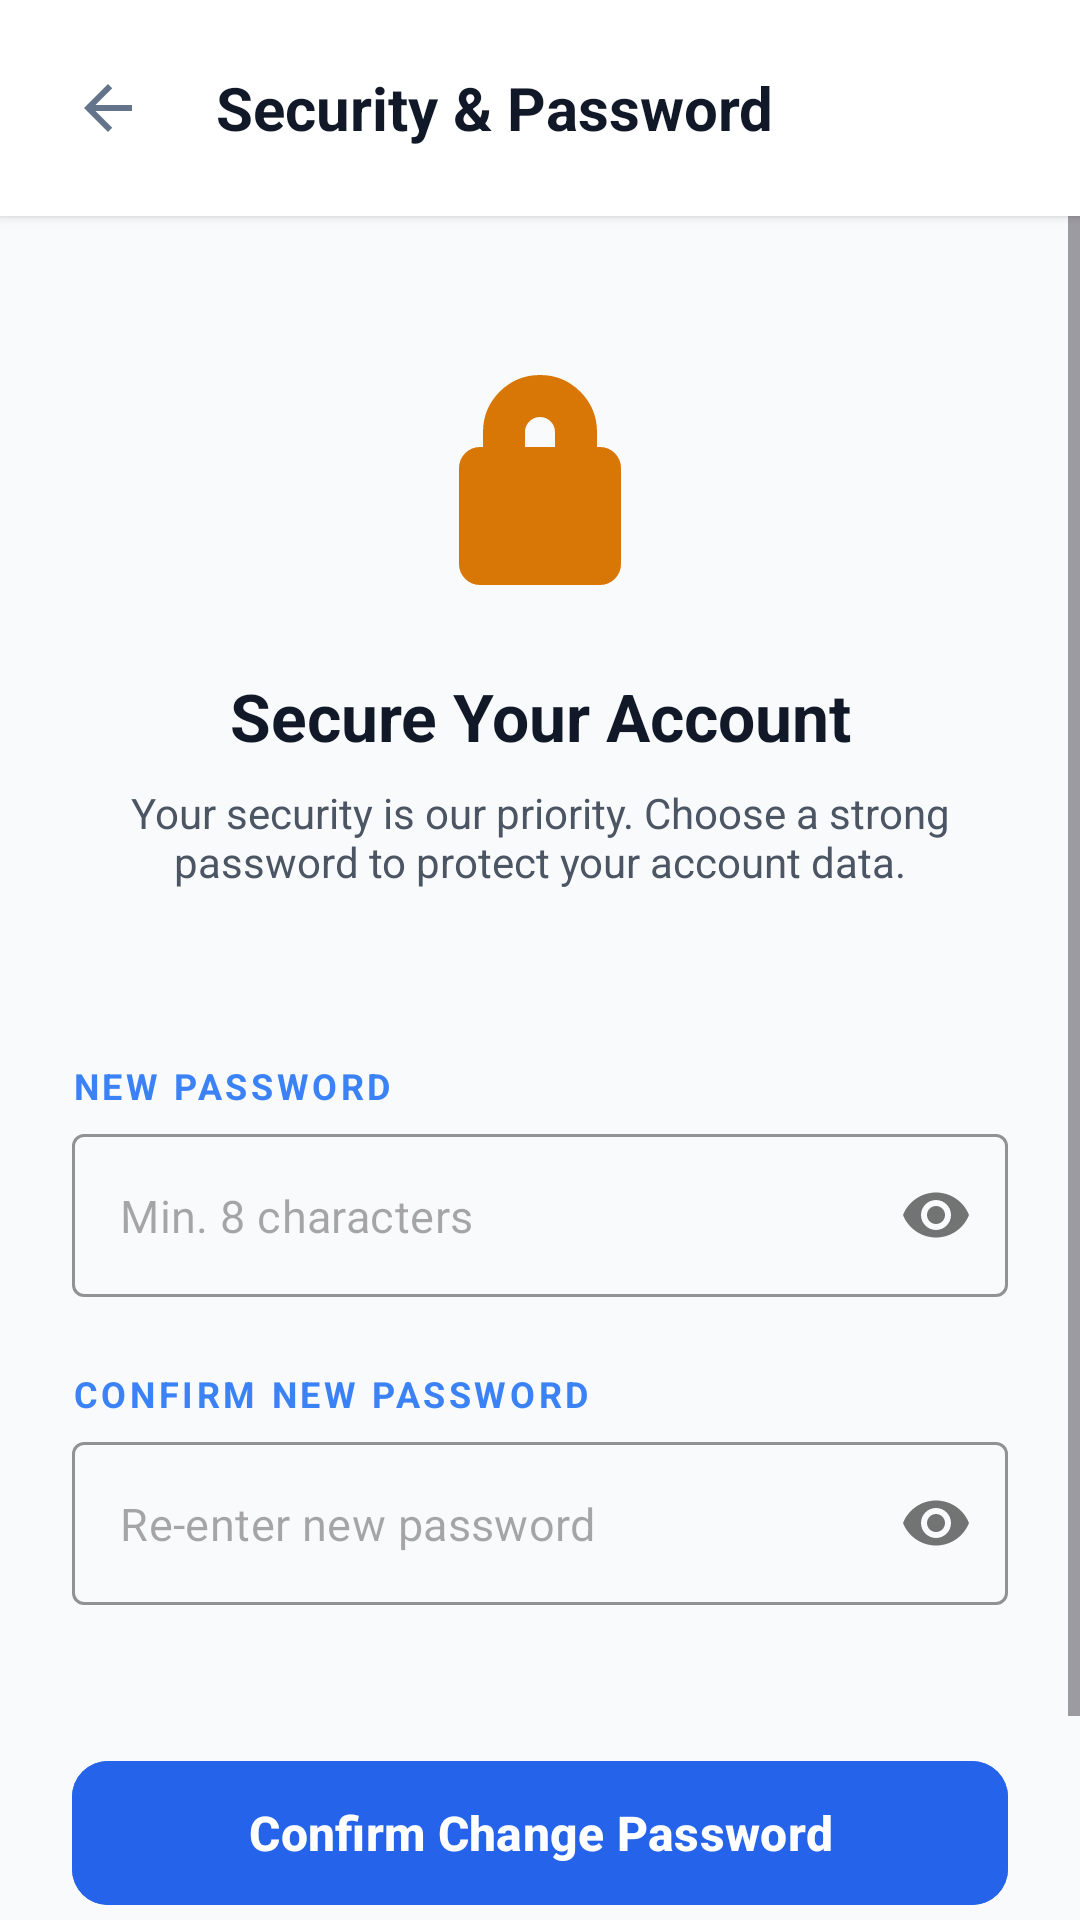

Locate icon controls on the screen. Image size 1080*1920, boxes as (x1, y1, x2, y2).
arrow back: (84, 84, 132, 132)
lock: (459, 375, 621, 585)
